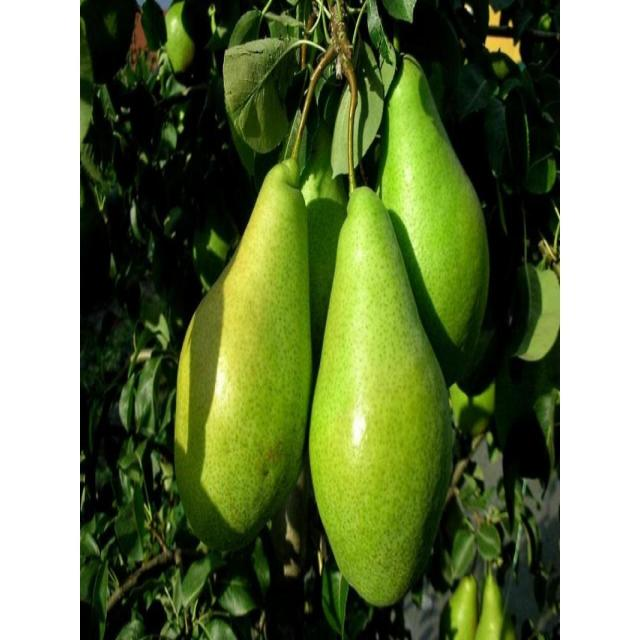pear: (170, 43, 492, 608), (308, 183, 454, 607), (172, 155, 313, 553)
